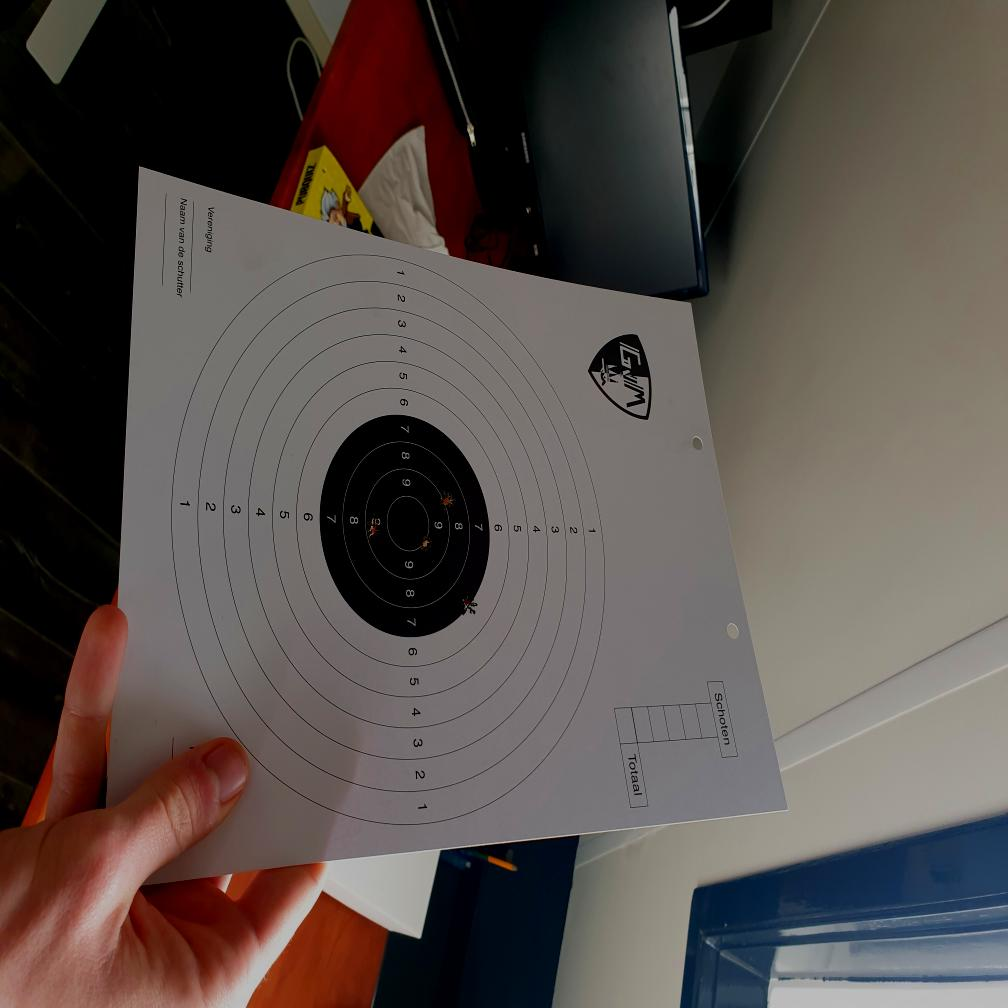10: (420, 535, 432, 554)
7: (460, 592, 478, 617)
9: (365, 519, 380, 544), (440, 490, 455, 512)
Target: (171, 252, 606, 826)
black_contour: (318, 416, 490, 637)
